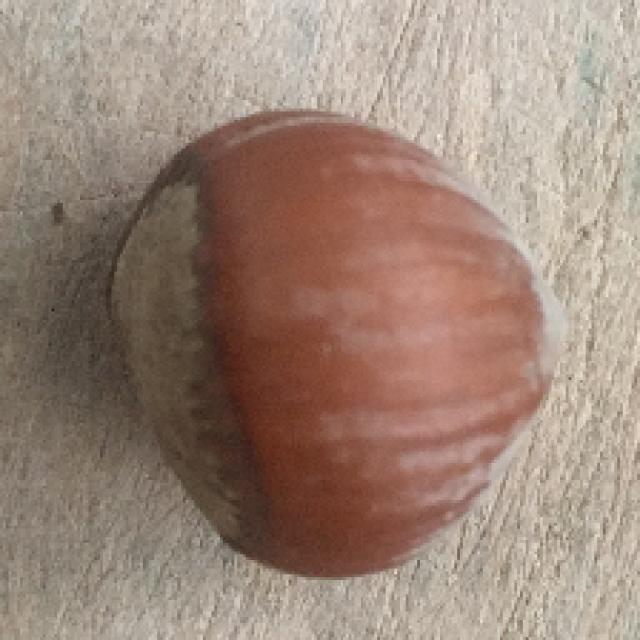qualityHazelnut: (103, 106, 575, 585)
